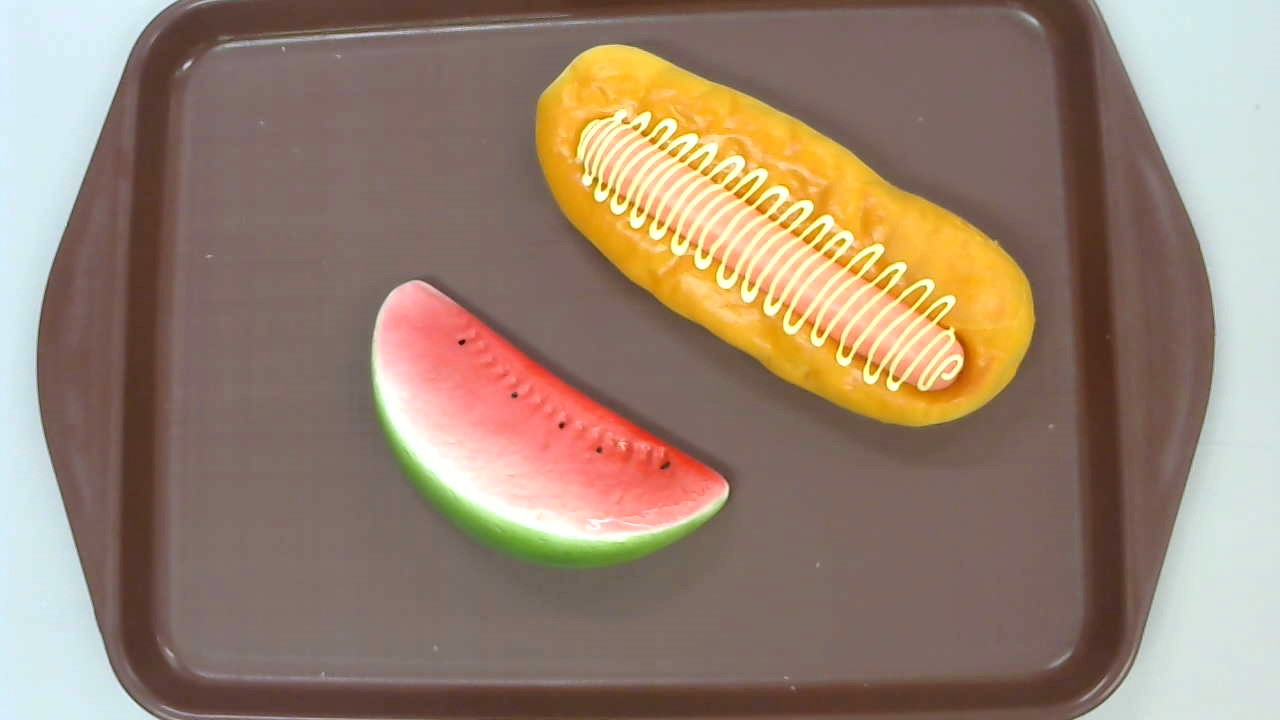hot dog: (534, 44, 1035, 428)
water melon: (369, 280, 729, 570)
